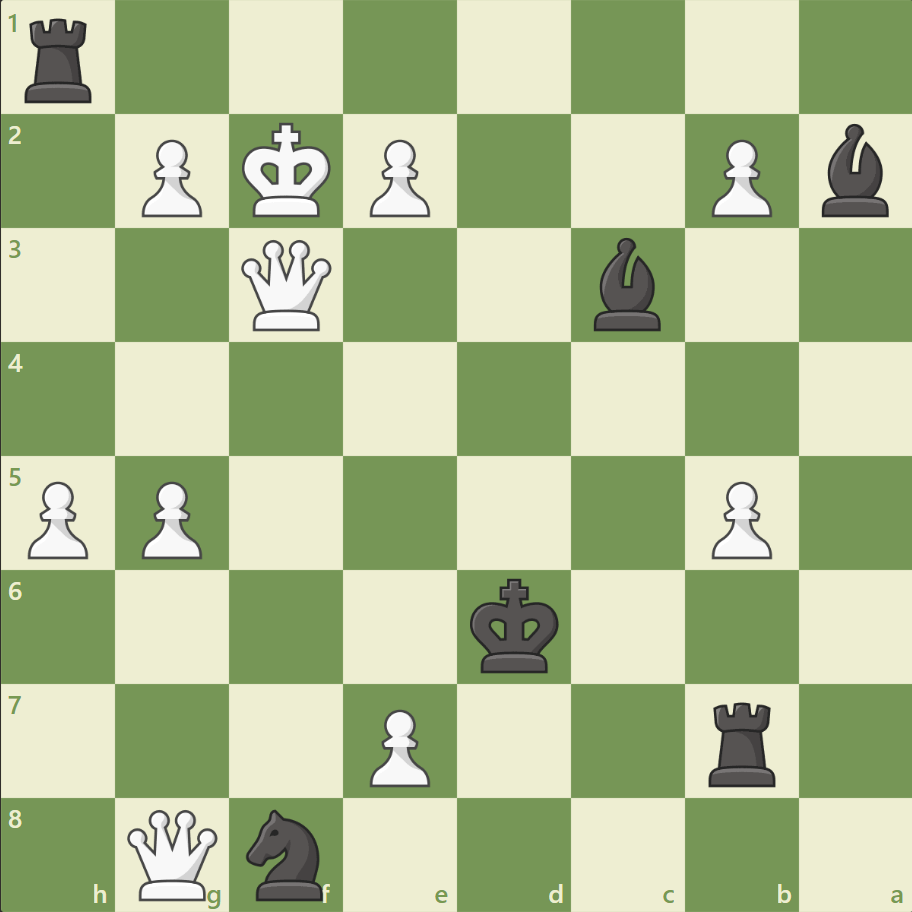K: (238, 117, 338, 225)
P: (701, 473, 776, 564), (133, 473, 208, 564), (20, 473, 95, 564), (701, 132, 776, 223), (133, 132, 208, 223), (361, 700, 435, 791), (361, 132, 435, 223)
Q: (124, 804, 223, 903), (237, 236, 336, 335)
b: (585, 233, 669, 336), (812, 120, 896, 222)
k: (465, 571, 565, 679)
n: (238, 802, 335, 904)
r: (700, 693, 783, 790), (19, 12, 102, 109)
